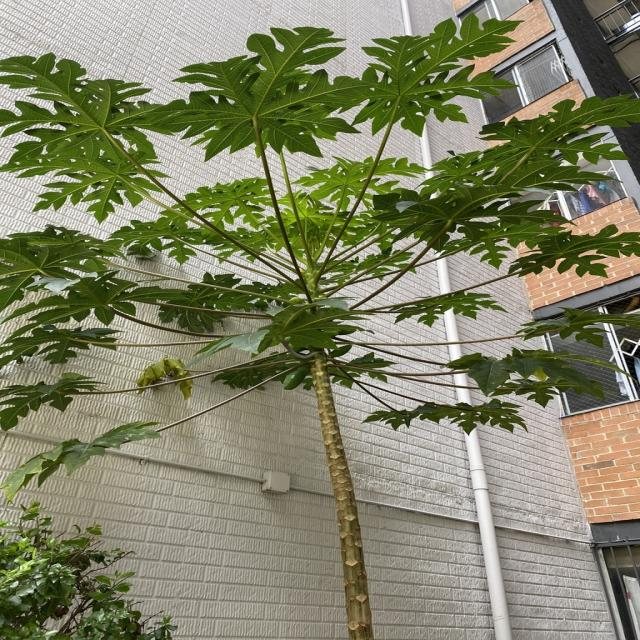Papaya-Tree: (0, 17, 639, 640)
